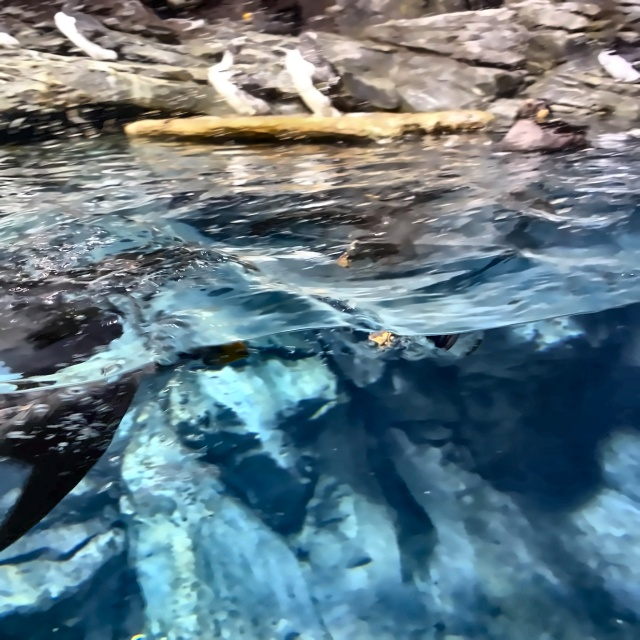puffin: (496, 97, 582, 156)
